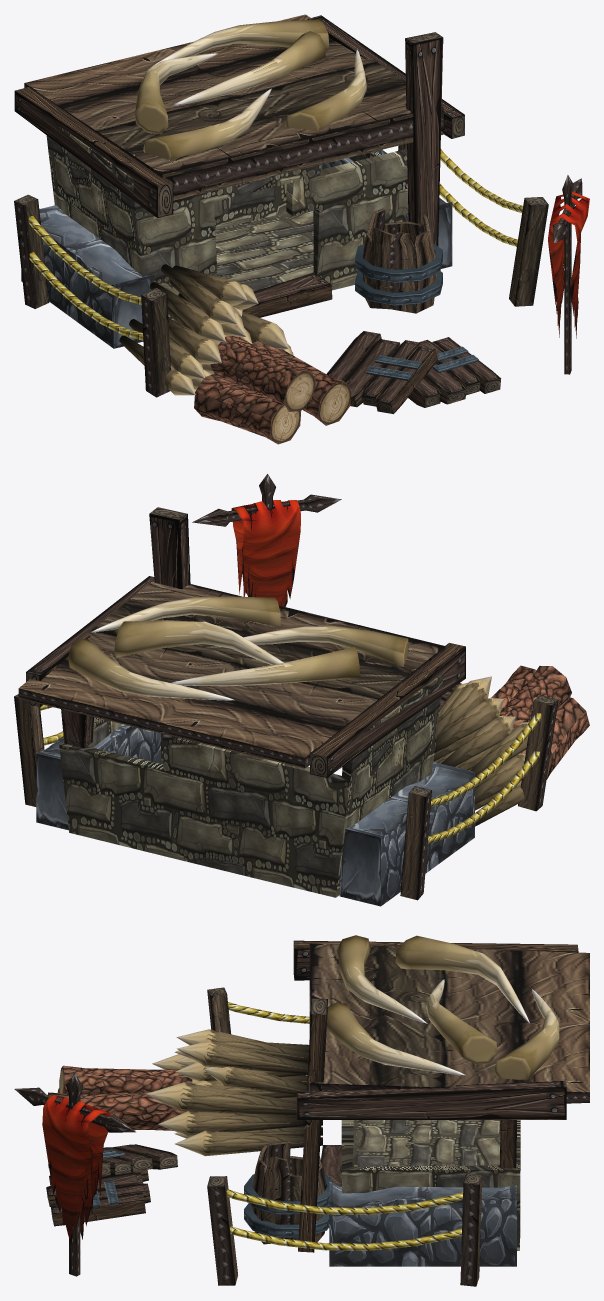
File: Orc_Construction_Barracks.FBX
3 views of the same model, one above another, from view 1: azimuth 30°, elevation 25°; view 2: azimuth 150°, elevation 25°; view 3: azimuth 270°, elevation 25° (orthographic).
Parts seen in each view (by area): view 1: Box132, FLOOR001, trunk012, Box168, step019, step016, door007, barrel002, door006, Box134, large_wood004, Box133 (+21 smaller); view 2: Box132, FLOOR001, Box168, step016, Plane020, trunk012, Box167, Box133, Box178, Box134, Box180, Box179 (+15 smaller); view 3: FLOOR001, Box167, Box132, step015, Plane020, trunk012, step019, barrel002, Box178, Box194, Box180, rope001 (×2) (+23 smaller).
Boxes of the visible parts, left/top/right/bottom form: Box132: left=46, top=120, right=408, bottom=321; FLOOR001: left=24, top=14, right=443, bottom=200; trunk012: left=194, top=336, right=351, bottom=444; Box168: left=21, top=205, right=154, bottom=348; step019: left=405, top=32, right=443, bottom=246; step016: left=14, top=86, right=173, bottom=217; door007: left=326, top=331, right=437, bottom=414; barrel002: left=362, top=208, right=437, bottom=313; door006: left=408, top=337, right=501, bottom=407; Box134: left=150, top=19, right=329, bottom=67; large_wood004: left=509, top=197, right=548, bottom=306; Box133: left=171, top=31, right=325, bottom=106; Box132: left=59, top=673, right=443, bottom=897; FLOOR001: left=18, top=580, right=445, bottom=768; Box168: left=339, top=762, right=474, bottom=906; step016: left=310, top=643, right=465, bottom=777; Plane020: left=231, top=500, right=300, bottom=606; trunk012: left=491, top=665, right=589, bottom=779; Box167: left=36, top=717, right=161, bottom=830; Box133: left=114, top=620, right=283, bottom=664; Box178: left=171, top=647, right=359, bottom=686; Box134: left=68, top=638, right=234, bottom=700; Box180: left=90, top=596, right=280, bottom=632; Box179: left=244, top=626, right=408, bottom=667; FLOOR001: left=309, top=943, right=589, bottom=1103; Box167: left=329, top=1181, right=516, bottom=1266; Box132: left=341, top=1120, right=520, bottom=1250; step015: left=296, top=1081, right=566, bottom=1119; Plane020: left=42, top=1095, right=110, bottom=1245; trunk012: left=48, top=1065, right=192, bottom=1130; step019: left=298, top=998, right=327, bottom=1252; barrel002: left=251, top=1141, right=327, bottom=1244; Box178: left=395, top=935, right=529, bottom=1023; Box194: left=145, top=1082, right=296, bottom=1115; Box180: left=326, top=1002, right=465, bottom=1075; rope001 (×2): left=226, top=1002, right=463, bottom=1214.
Bounding box in the file's own units: 5171 × 3163 × 6268.
